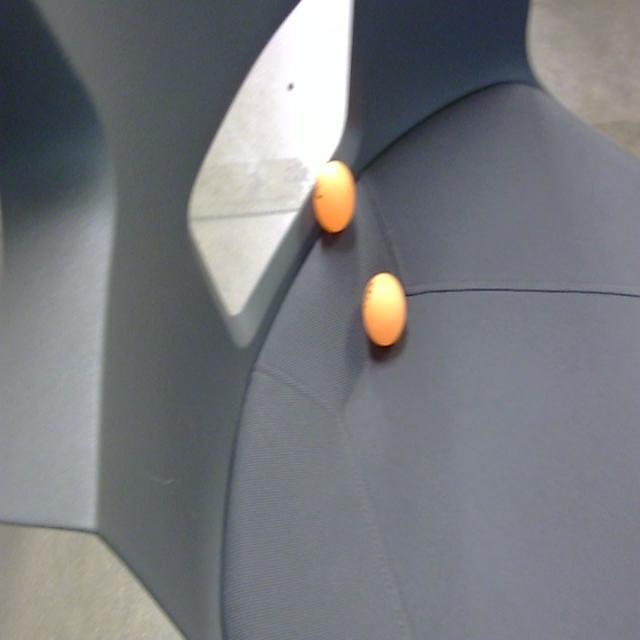ball: (362, 272, 408, 350), (312, 158, 356, 235)
